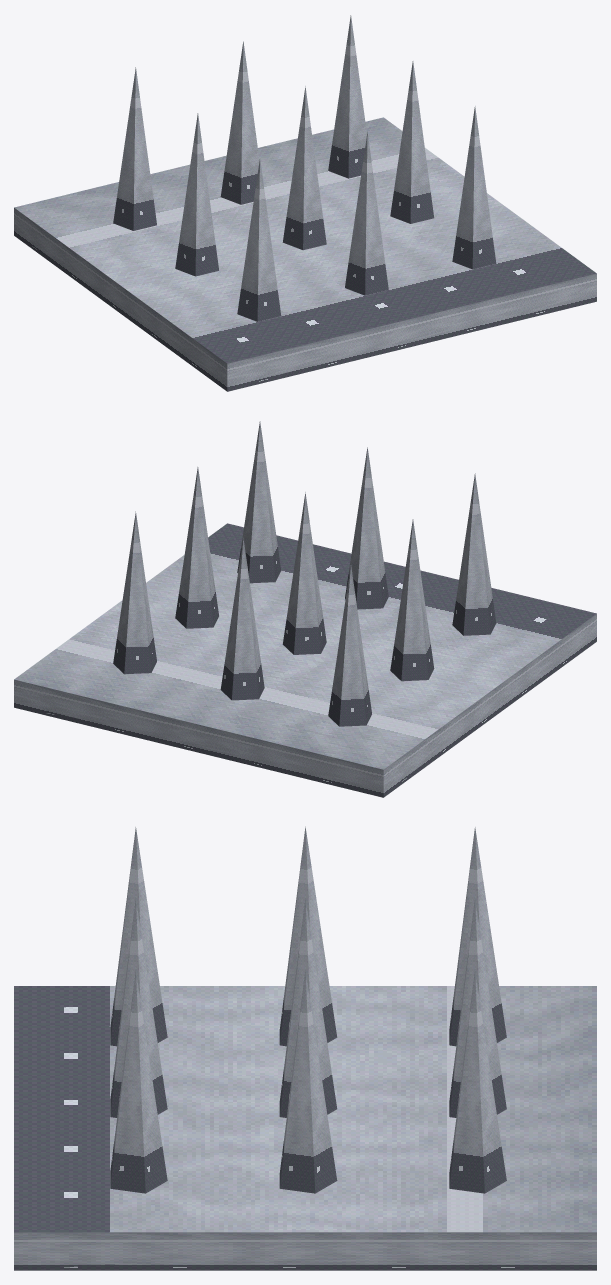
The model's file is armadilha_de_espinhos_ativa.glb.
The picture shows the model from 3 angles, top to bottom: view 1: azimuth 30°, elevation 25°; view 2: azimuth 150°, elevation 25°; view 3: azimuth 270°, elevation 25°; orthographic projection. The views are drawn at different scales.
Visible parts, largest first — view 1: armadilha_de_espinhos_ativa; view 2: armadilha_de_espinhos_ativa; view 3: armadilha_de_espinhos_ativa.
Part boxes in pixels (<box>): armadilha_de_espinhos_ativa: <box>14,15,596,391</box>; armadilha_de_espinhos_ativa: <box>14,421,596,797</box>; armadilha_de_espinhos_ativa: <box>14,826,596,1270</box>.
Size of the model in its own units: 1.1 by 0.52 by 1.1.
1 material, 1 textured.
